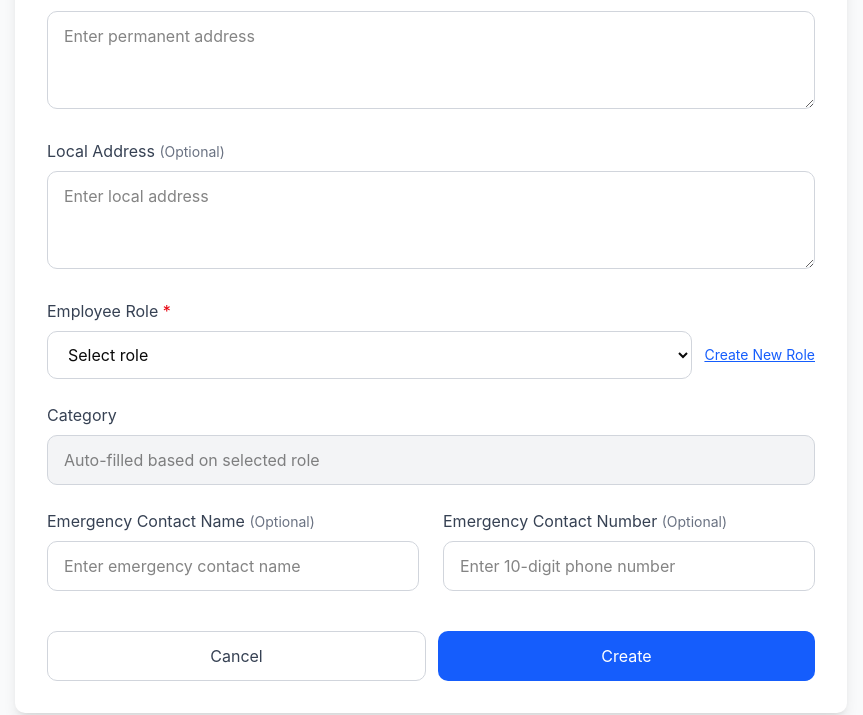
it: CreateEmployeeScreen › role and category › fills the category for Mason as Daily Wages
(page scrolled)
Select "Mason" in the dropdown labelled "Employee Role *": (370, 355) [47,331,692,379]
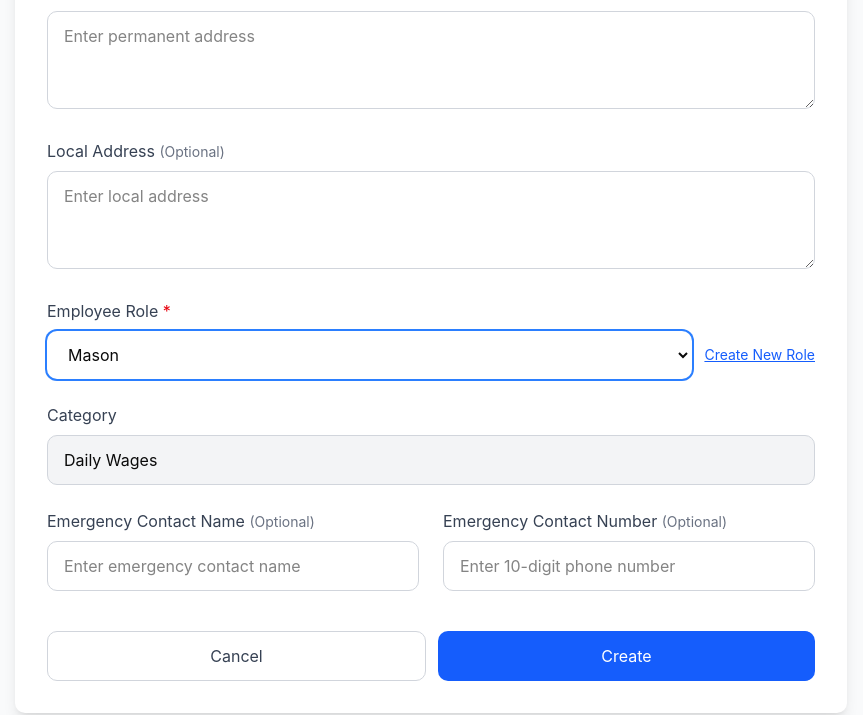
Now the field labelled "Category" holds "Daily Wages", box [47,435,815,485]
